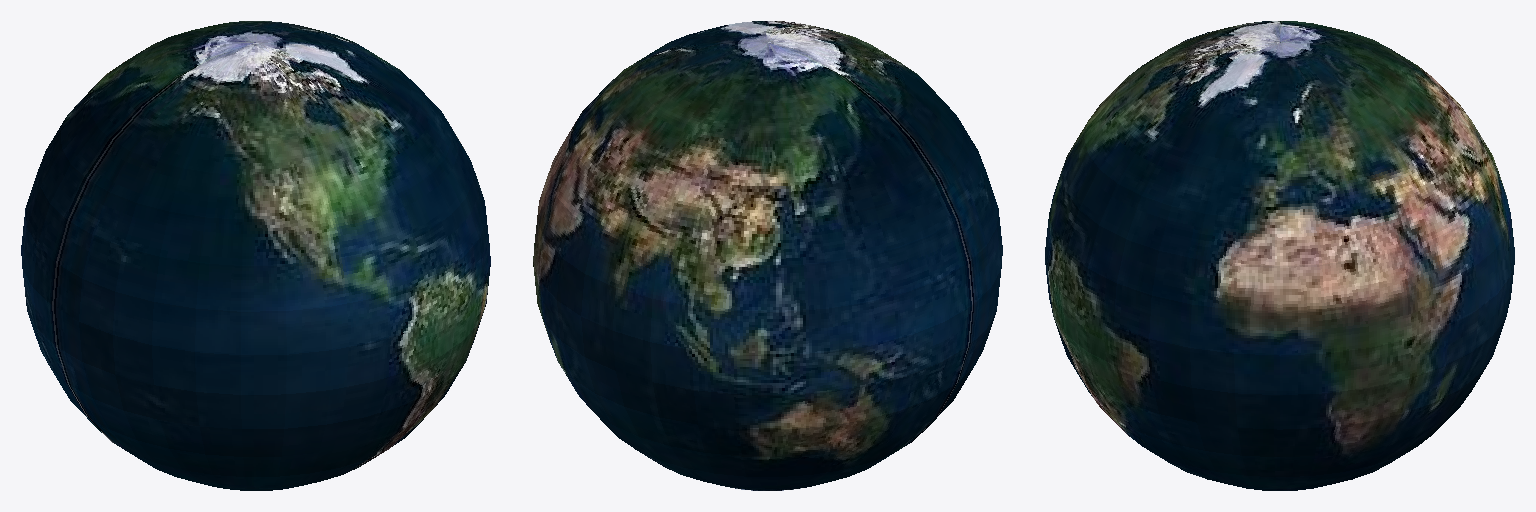
The picture shows the model from 3 angles: view 1: azimuth 30°, elevation 25°; view 2: azimuth 150°, elevation 25°; view 3: azimuth 270°, elevation 25°; orthographic projection.
Parts seen in each view (by area): view 1: Sphere; view 2: Sphere; view 3: Sphere.
Boxes of the visible parts, x1=… form: Sphere: x1=21, y1=21, x2=490, y2=490; Sphere: x1=533, y1=21, x2=1002, y2=490; Sphere: x1=1045, y1=21, x2=1514, y2=490.
Size of the model in its own units: 2 by 2 by 2.
Materials: 1 (1 with a texture image).